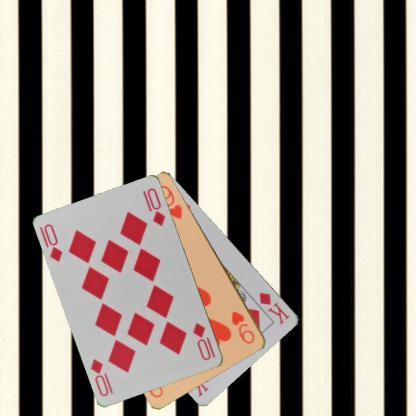10d: (190, 320, 217, 362), (42, 221, 64, 264)
9h: (229, 308, 256, 346)
Kd: (257, 289, 291, 326)
